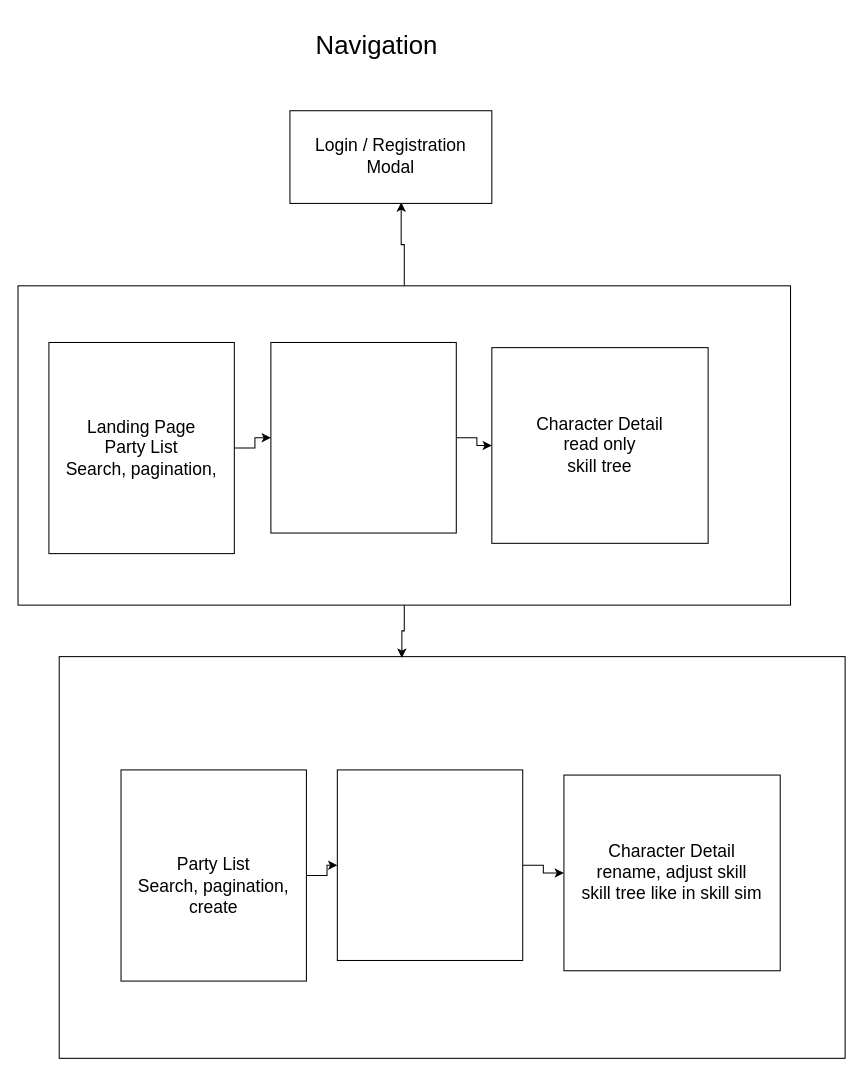
Some shapes in this 863 by 1076 pixel diagram are drawn without their labels. The box of each missing label's shape, as (x1, y1, x2, y2) in pixels:
"user stuff" Same as above, but editable: (58, 656, 845, 1058)
Party Detail Edit, add/remove/move character: (336, 769, 523, 960)
Party Detail read only members, position: (270, 341, 456, 533)
